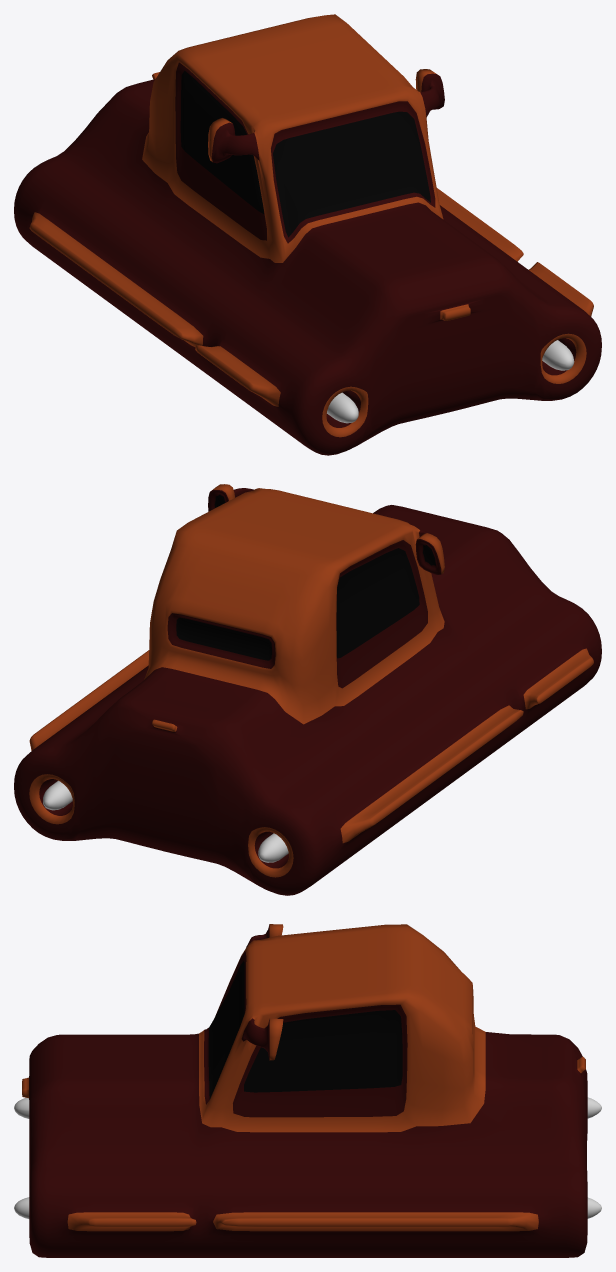
File: car.obj
3 renders of one model, top to bottom at view 1: azimuth 30°, elevation 25°; view 2: azimuth 150°, elevation 25°; view 3: azimuth 270°, elevation 25°, orthographic. The views are drawn at different scales.
Parts seen in each view (by area): view 1: Car_Cylinder.001; view 2: Car_Cylinder.001; view 3: Car_Cylinder.001.
Part boxes in pixels (left/top/right/bottom): Car_Cylinder.001: left=14, top=14, right=601, bottom=455; Car_Cylinder.001: left=14, top=484, right=601, bottom=895; Car_Cylinder.001: left=14, top=924, right=601, bottom=1257.
Size of the model in its own units: 94.63 by 66.64 by 147.
